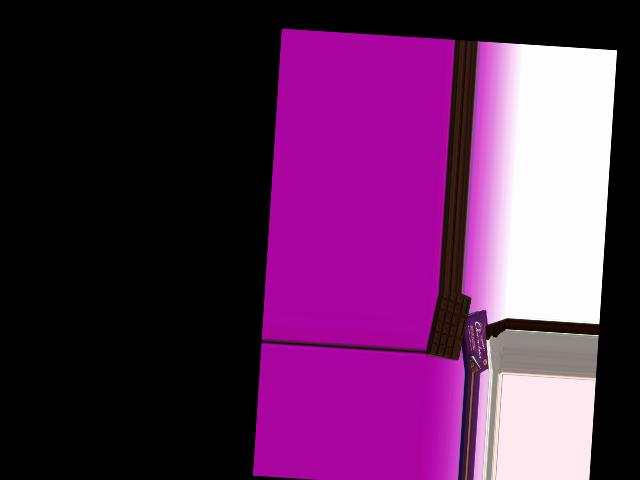chocolate: (425, 294, 472, 360)
